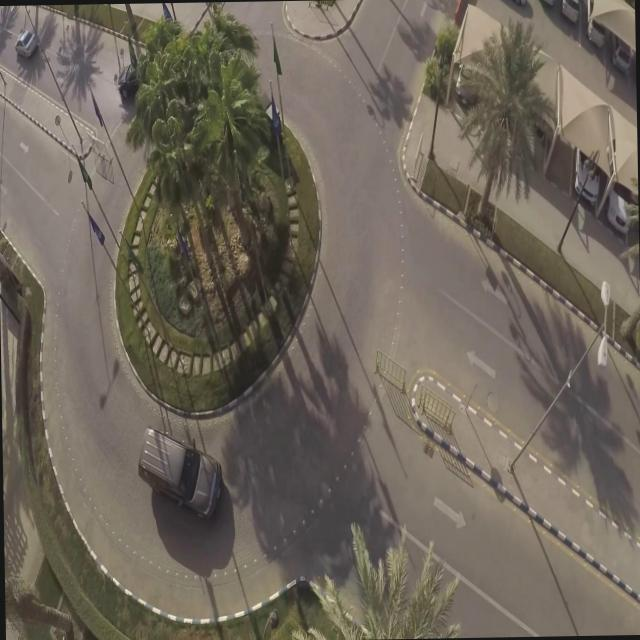car: (136, 426, 224, 520), (117, 58, 153, 98), (605, 185, 633, 236), (574, 154, 600, 206), (454, 63, 480, 109), (611, 36, 632, 72), (13, 28, 38, 58), (586, 19, 605, 49), (559, 0, 582, 23)
